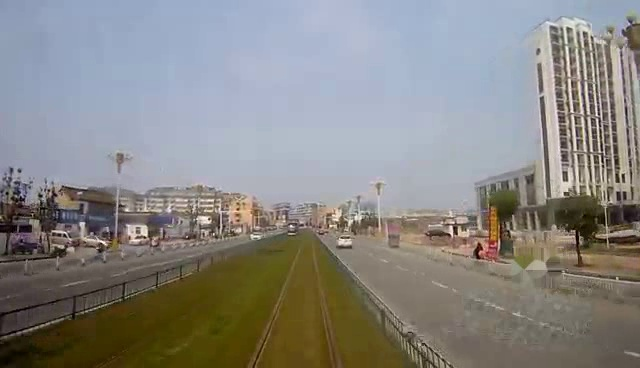car: (48, 227, 82, 249), (336, 232, 353, 250)
